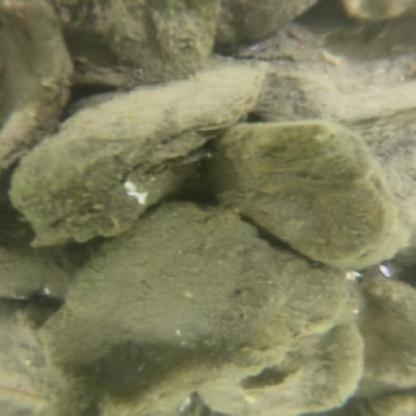Oyster-Closed: (43, 208, 352, 414), (5, 69, 271, 251), (210, 119, 389, 263), (194, 319, 361, 415), (216, 1, 324, 43)
